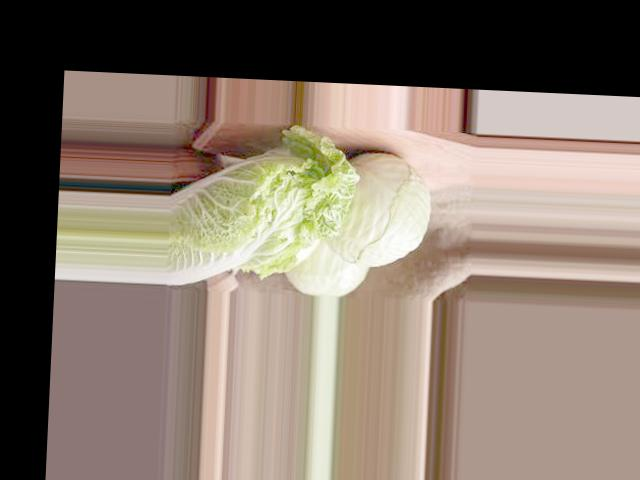lettuce: (194, 112, 344, 272)
